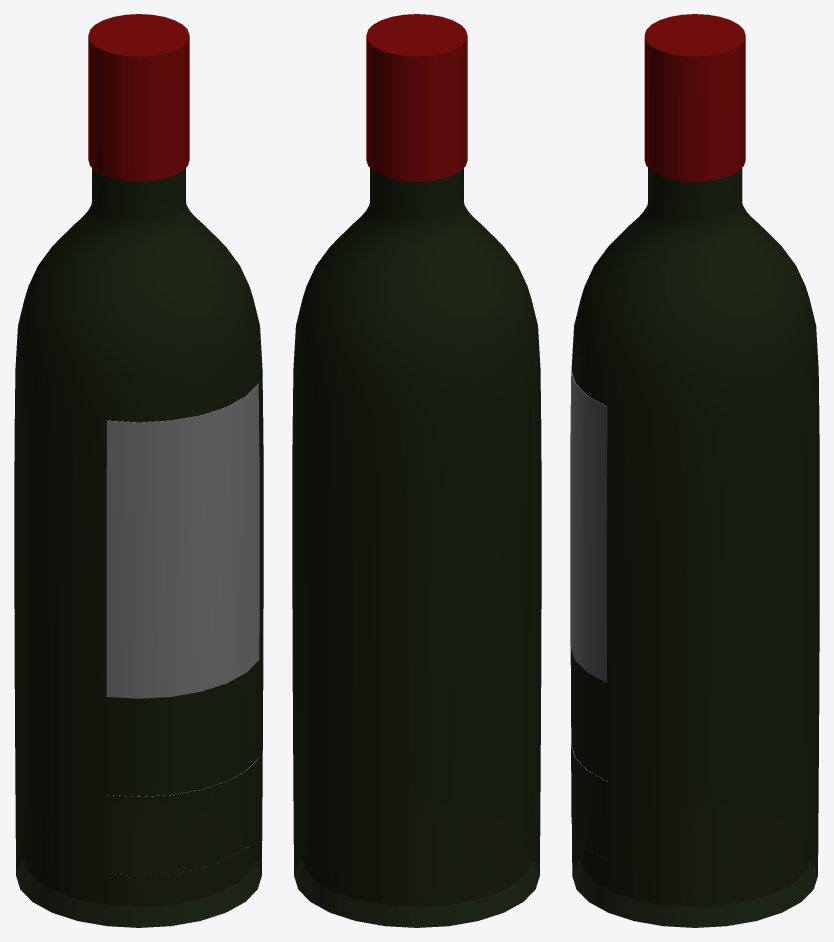
Rendered from bottle_wine.glb.
The picture shows the model from 3 angles, left to right: view 1: azimuth 30°, elevation 25°; view 2: azimuth 150°, elevation 25°; view 3: azimuth 270°, elevation 25°; orthographic projection.
Visible parts, largest first — view 1: Mesh_Botella_0, Mesh_Etiqueta_0, Mesh_Cosa de arriba_0; view 2: Mesh_Botella_0, Mesh_Cosa de arriba_0; view 3: Mesh_Botella_0, Mesh_Cosa de arriba_0, Mesh_Etiqueta_0.
Boxes of the visible parts, bbox=[...] form: Mesh_Botella_0: bbox=[14, 168, 263, 927]; Mesh_Etiqueta_0: bbox=[106, 384, 259, 698]; Mesh_Cosa de arriba_0: bbox=[88, 14, 189, 181]; Mesh_Botella_0: bbox=[292, 168, 541, 927]; Mesh_Cosa de arriba_0: bbox=[366, 14, 467, 181]; Mesh_Botella_0: bbox=[570, 168, 819, 927]; Mesh_Cosa de arriba_0: bbox=[644, 14, 745, 181]; Mesh_Etiqueta_0: bbox=[570, 371, 607, 682].
Bounding box in the file's own units: 502 × 1870 × 503.
Materials: 5 (1 with a texture image).
